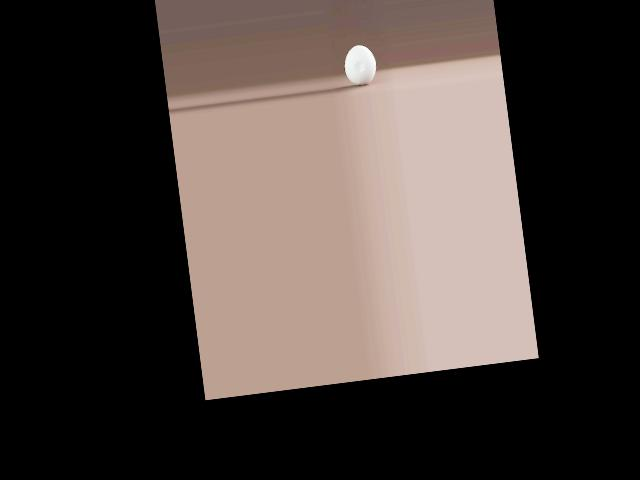egg: (342, 43, 378, 87)
